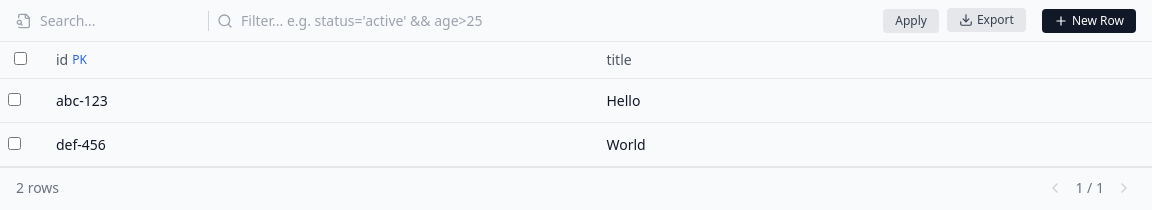
it: TableBrowser › select-all selects all rows on current page
The width and height of the screenshot is (1152, 210).
Expected: the text "Hello" is shown, [590,78,1072,122]
Step 1. Click the checkbox named "Select all" → (20, 58), box [14,52,26,65]
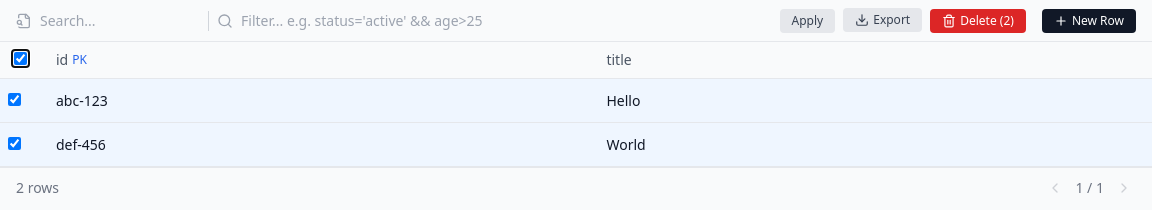
Now the button "Delete (2)" is shown, box [930,8,1026,32]
